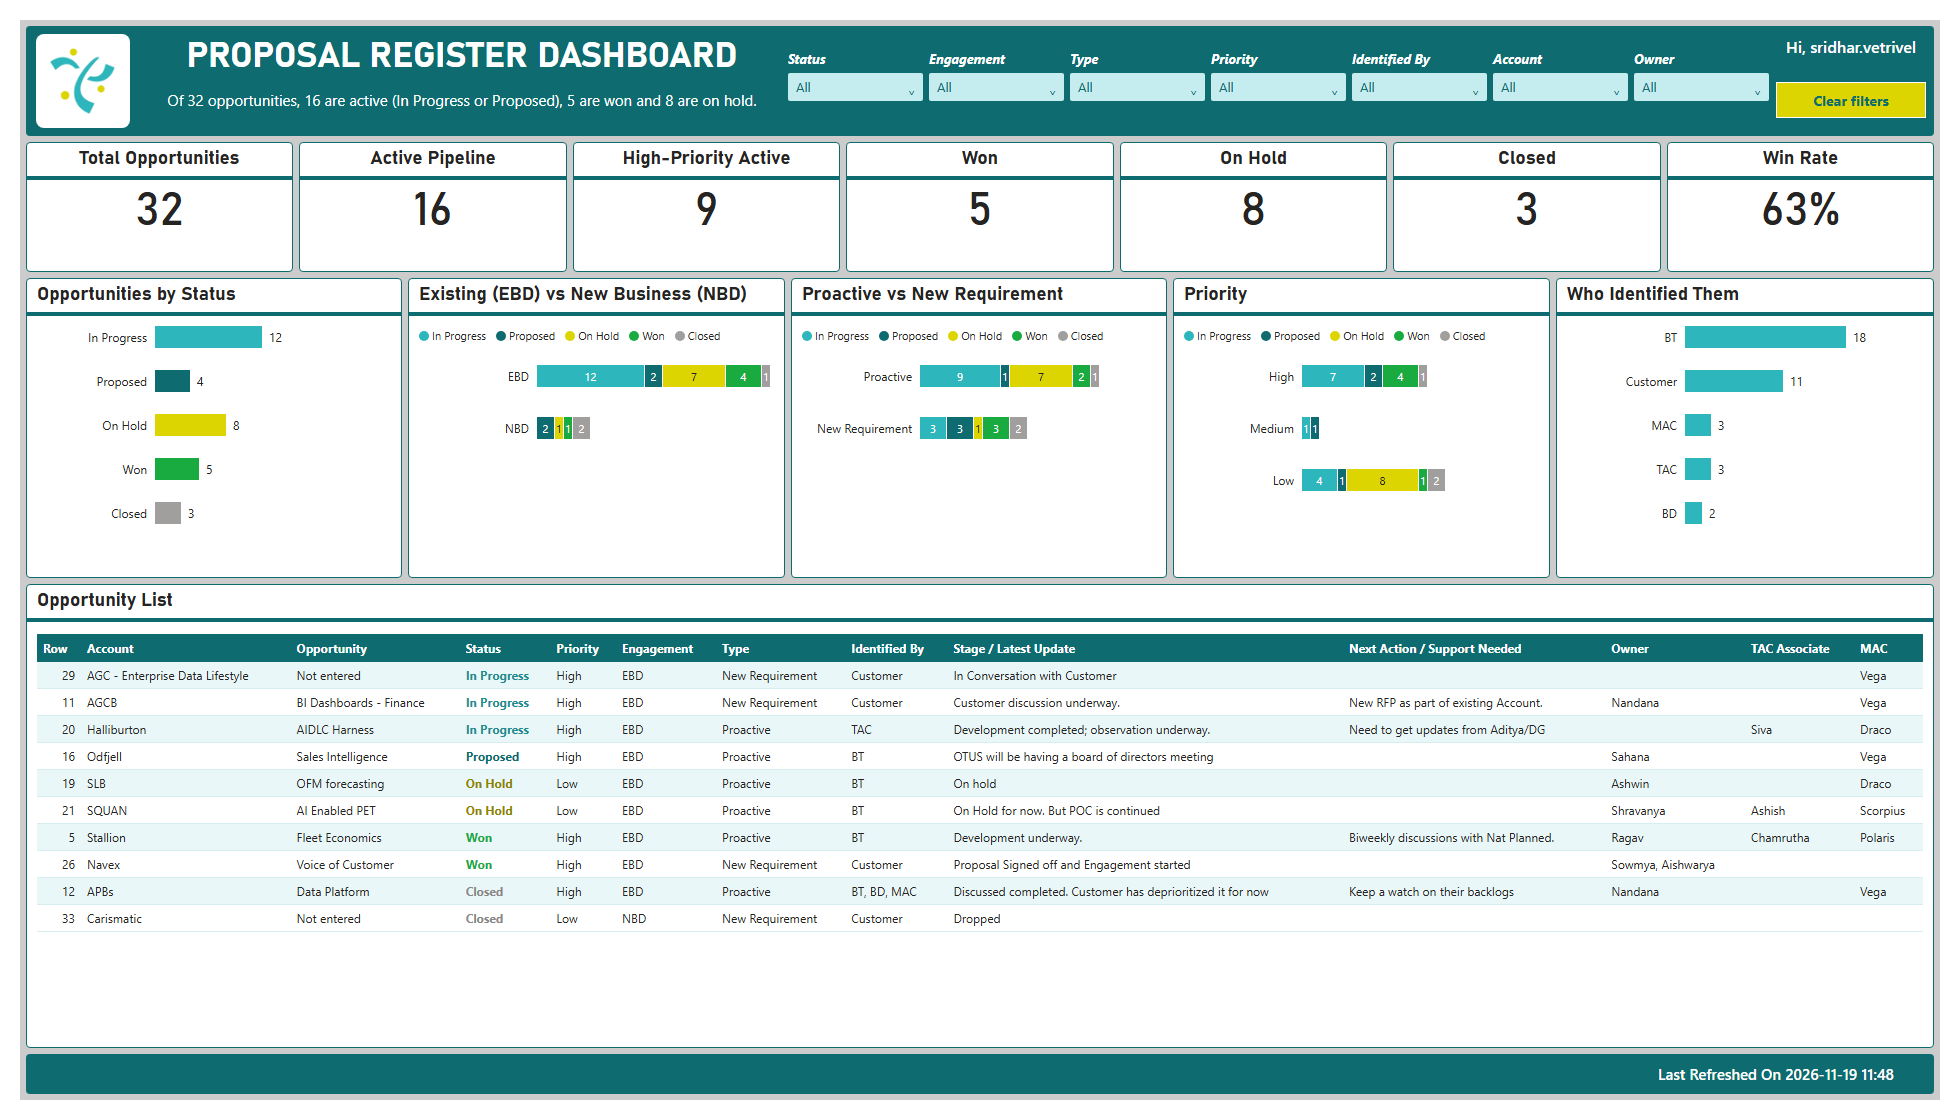

The page's visual inventory and layout, read from the dashboard file:
{"tool":"powerbi","page":{"name":"Proposal Register","canvas":[1920,1080],"ordinal":0},"visuals":[{"type":"textbox","box":[6,6,1908,110],"z":0},{"type":"textbox","box":[6,1034,1908,40],"z":1},{"type":"image","box":[16,14,94,94],"z":2000},{"type":"textbox","box":[122,10,660,60],"z":3000},{"type":"card","fields":{"Values":["Proactive Proposal Tracking.Summary Text"]},"box":[122,72,660,38],"z":4000},{"type":"slicer","fields":{"Values":["Proactive Proposal Tracking.Status"]},"box":[788,30,128,66],"z":5000},{"type":"slicer","fields":{"Values":["Proactive Proposal Tracking.Engagement"]},"box":[922,30,128,66],"z":6000},{"type":"slicer","fields":{"Values":["Proactive Proposal Tracking.Type"]},"box":[1056,30,128,66],"z":7000},{"type":"slicer","fields":{"Values":["Proactive Proposal Tracking.Priority"]},"box":[1190,30,128,66],"z":8000},{"type":"slicer","fields":{"Values":["Identified By Source.Source"]},"box":[1324,30,128,66],"z":9000},{"type":"slicer","fields":{"Values":["Proactive Proposal Tracking.Account Name"]},"box":[1458,30,128,66],"z":10000},{"type":"slicer","fields":{"Values":["Proactive Proposal Tracking.Opportunity Owner"]},"box":[1592,30,133,66],"z":11000},{"type":"card","fields":{"Values":["Proactive Proposal Tracking.Greeting"]},"box":[1731,16,175,36],"z":12000},{"type":"actionButton","box":[1731,62,175,36],"z":13000},{"type":"card","title":"Total Opportunities","fields":{"Values":["Proactive Proposal Tracking.Total Opportunities"]},"box":[6,122,267,130],"z":14000},{"type":"card","title":"Active Pipeline","fields":{"Values":["Proactive Proposal Tracking.Active Pipeline"]},"box":[279,122,268,130],"z":15000},{"type":"card","title":"High-Priority Active","fields":{"Values":["Proactive Proposal Tracking.High Priority Active"]},"box":[553,122,267,130],"z":16000},{"type":"card","title":"Won","fields":{"Values":["Proactive Proposal Tracking.Won"]},"box":[826,122,268,130],"z":17000},{"type":"card","title":"On Hold","fields":{"Values":["Proactive Proposal Tracking.On Hold"]},"box":[1100,122,267,130],"z":18000},{"type":"card","title":"Closed","fields":{"Values":["Proactive Proposal Tracking.Closed"]},"box":[1373,122,268,130],"z":19000},{"type":"card","title":"Win Rate","fields":{"Values":["Proactive Proposal Tracking.Win Rate"]},"box":[1647,122,267,130],"z":20000},{"type":"clusteredBarChart","title":"Opportunities by Status","fields":{"Category":["Proactive Proposal Tracking.Status"],"Y":["Proactive Proposal Tracking.Opportunities"]},"box":[6,258,376,300],"z":21000},{"type":"barChart","title":"EBD vs NBD","fields":{"Category":["Proactive Proposal Tracking.Engagement"],"Y":["Proactive Proposal Tracking.Opportunities"],"Series":["Proactive Proposal Tracking.Status"]},"box":[388,258,377,300],"z":22000},{"type":"barChart","title":"Proactive vs New Requirement","fields":{"Category":["Proactive Proposal Tracking.Type"],"Y":["Proactive Proposal Tracking.Opportunities"],"Series":["Proactive Proposal Tracking.Status"]},"box":[771,258,376,300],"z":23000},{"type":"barChart","title":"Priority","fields":{"Category":["Proactive Proposal Tracking.Priority"],"Y":["Proactive Proposal Tracking.Opportunities"],"Series":["Proactive Proposal Tracking.Status"]},"box":[1153,258,377,300],"z":24000},{"type":"clusteredBarChart","title":"Who Identified Them","fields":{"Category":["Identified By Source.Source"],"Y":["Proactive Proposal Tracking.Opportunities"]},"box":[1536,258,378,300],"z":25000},{"type":"tableEx","title":"Opportunity List","fields":{"Values":["Proactive Proposal Tracking.Row","Proactive Proposal Tracking.Account Name","Proactive Proposal Tracking.Opportunity Details","Proactive Proposal Tracking.Status","Proactive Proposal Tracking.Priority","Proactive Proposal Tracking.Engagement","Proactive Proposal Tracking.Type","Proactive Proposal Tracking.Identified By","Proactive Proposal Tracking.Stage","Proactive Proposal Tracking.Next Action / Support Needed","Proactive Proposal Tracking.Opportunity Owner","Proactive Proposal Tracking.TAC Associate"]},"box":[6,564,1908,464],"z":26000},{"type":"card","fields":{"Values":["Proactive Proposal Tracking.Last Refreshed Text"]},"box":[1606,1038,300,32],"z":28000}]}

Visuals, with their boxes in screenshot pixels (x1, y1, x2, y2), scaled from the page's 1920x1080 canvas onto the 1960x1120 screenshot:
textbox: <box>6,6,1954,120</box>
textbox: <box>6,1072,1954,1114</box>
image: <box>16,15,112,112</box>
textbox: <box>125,10,798,73</box>
card - Proactive Proposal Tracking.Summary Text: <box>125,75,798,114</box>
slicer - Proactive Proposal Tracking.Status: <box>804,31,935,100</box>
slicer - Proactive Proposal Tracking.Engagement: <box>941,31,1072,100</box>
slicer - Proactive Proposal Tracking.Type: <box>1078,31,1209,100</box>
slicer - Proactive Proposal Tracking.Priority: <box>1215,31,1345,100</box>
slicer - Identified By Source.Source: <box>1352,31,1482,100</box>
slicer - Proactive Proposal Tracking.Account Name: <box>1488,31,1619,100</box>
slicer - Proactive Proposal Tracking.Opportunity Owner: <box>1625,31,1761,100</box>
card - Proactive Proposal Tracking.Greeting: <box>1767,17,1946,54</box>
actionButton: <box>1767,64,1946,102</box>
"Total Opportunities" card: <box>6,127,279,261</box>
"Active Pipeline" card: <box>285,127,558,261</box>
"High-Priority Active" card: <box>565,127,837,261</box>
"Won" card: <box>843,127,1117,261</box>
"On Hold" card: <box>1123,127,1395,261</box>
"Closed" card: <box>1402,127,1675,261</box>
"Win Rate" card: <box>1681,127,1954,261</box>
"Opportunities by Status" clusteredBarChart: <box>6,268,390,579</box>
"EBD vs NBD" barChart: <box>396,268,781,579</box>
"Proactive vs New Requirement" barChart: <box>787,268,1171,579</box>
"Priority" barChart: <box>1177,268,1562,579</box>
"Who Identified Them" clusteredBarChart: <box>1568,268,1954,579</box>
"Opportunity List" tableEx: <box>6,585,1954,1066</box>
card - Proactive Proposal Tracking.Last Refreshed Text: <box>1639,1076,1946,1110</box>
